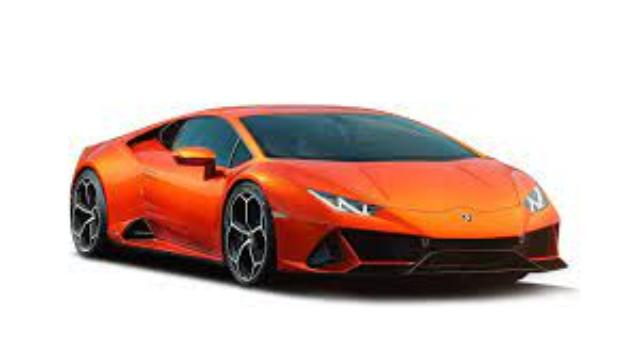lamborghini: (70, 105, 568, 287)
